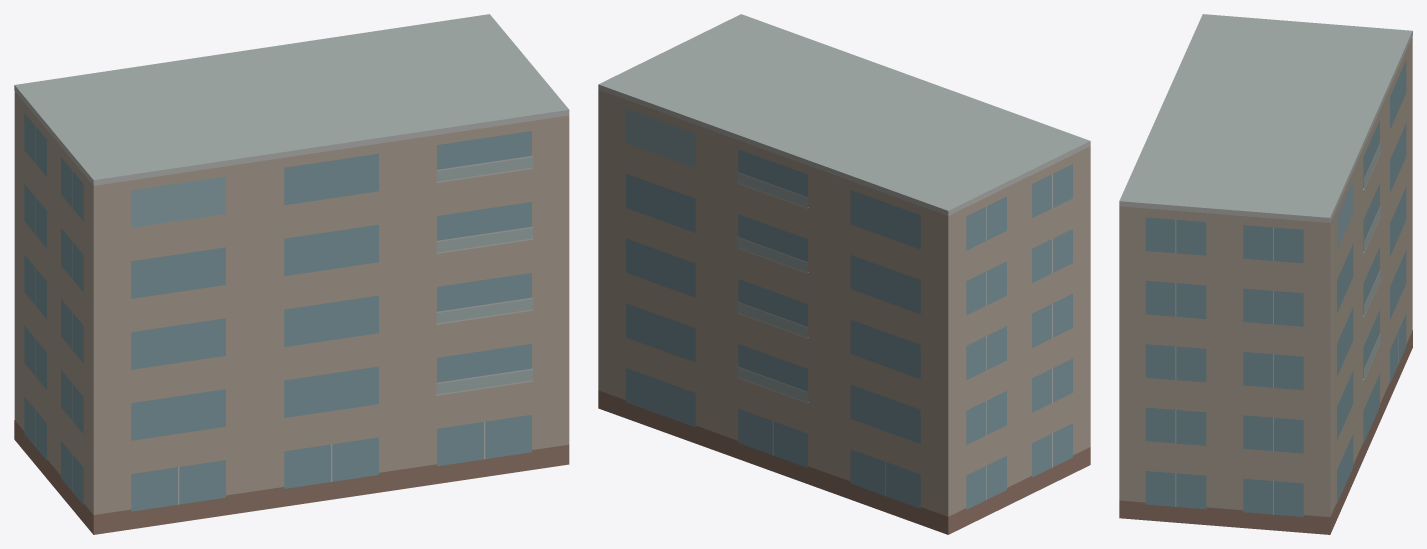
The model's file is survey-upis-32700979.glb.
The picture shows the model from 3 angles, left to right: view 1: azimuth 30°, elevation 25°; view 2: azimuth 150°, elevation 25°; view 3: azimuth 270°, elevation 25°; orthographic projection. The views are drawn at different scales.
Visible parts, largest first — view 1: survey-upis-32700979.tmp; view 2: survey-upis-32700979.tmp; view 3: survey-upis-32700979.tmp.
Part boxes in pixels (x1,y1,x2,y2): survey-upis-32700979.tmp: [14, 14, 569, 534]; survey-upis-32700979.tmp: [598, 14, 1090, 534]; survey-upis-32700979.tmp: [1119, 14, 1412, 534].
Bounding box in the file's own units: 21.05 × 15.25 × 12.81.
